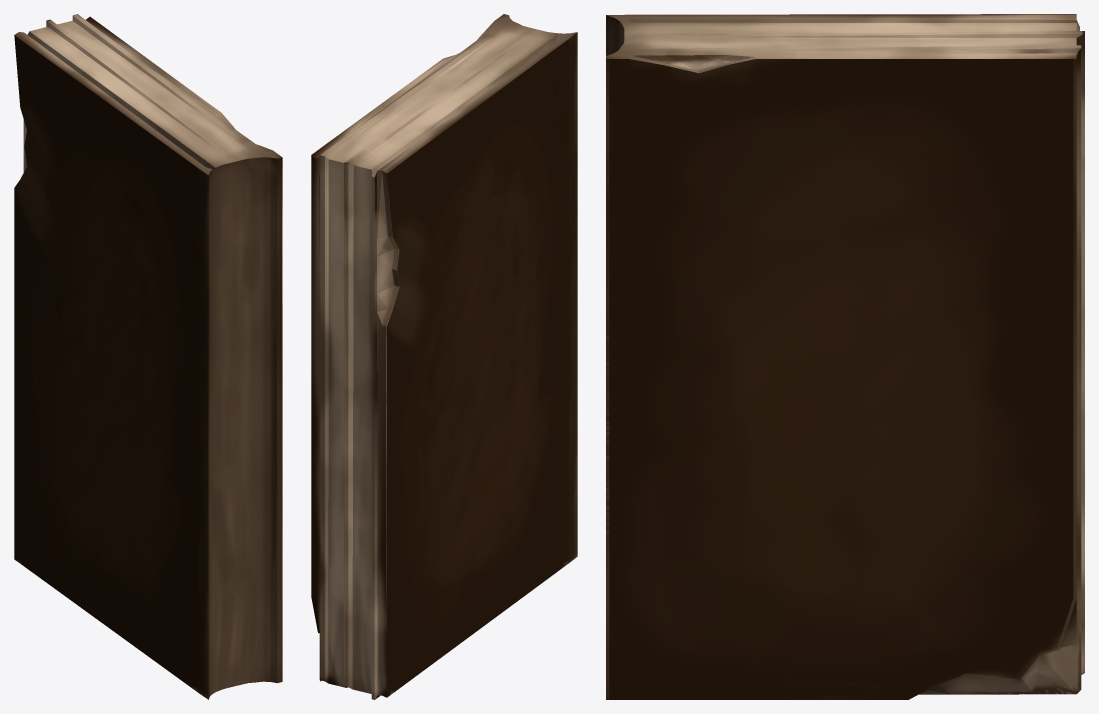
Rendered from PaperbackBurnedBook.dae.
3 views of the same model, side by side, from view 1: azimuth 30°, elevation 25°; view 2: azimuth 150°, elevation 25°; view 3: azimuth 270°, elevation 25° (orthographic). The views are drawn at different scales.
Visible parts, largest first — view 1: Cube; view 2: Cube; view 3: Cube.
Part boxes in pixels (x1=…): Cube: x1=14, y1=14, x2=282, y2=699; Cube: x1=311, y1=14, x2=577, y2=699; Cube: x1=606, y1=14, x2=1084, y2=699.
Bounding box in the file's own units: 38.38 × 258 × 172.
